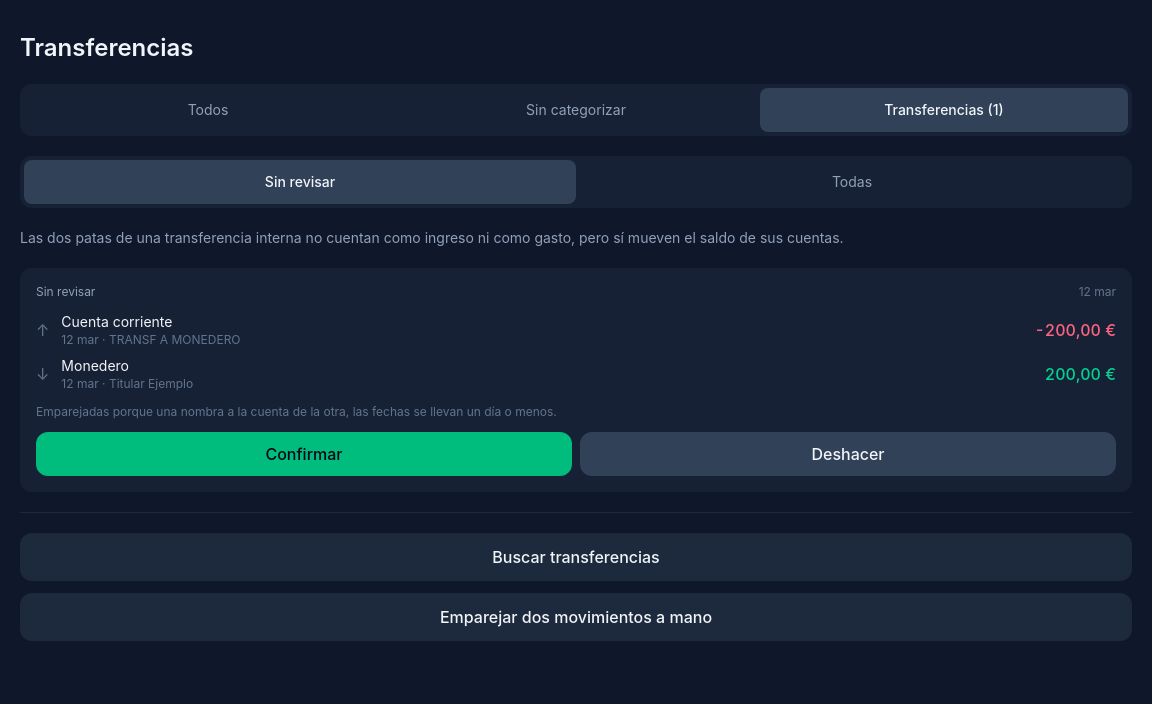
Test: TransfersScreen · confirmar y deshacer › avisa si la API rechaza la confirmación
Click the button "Confirmar": click(304, 454) [36, 432, 572, 476]
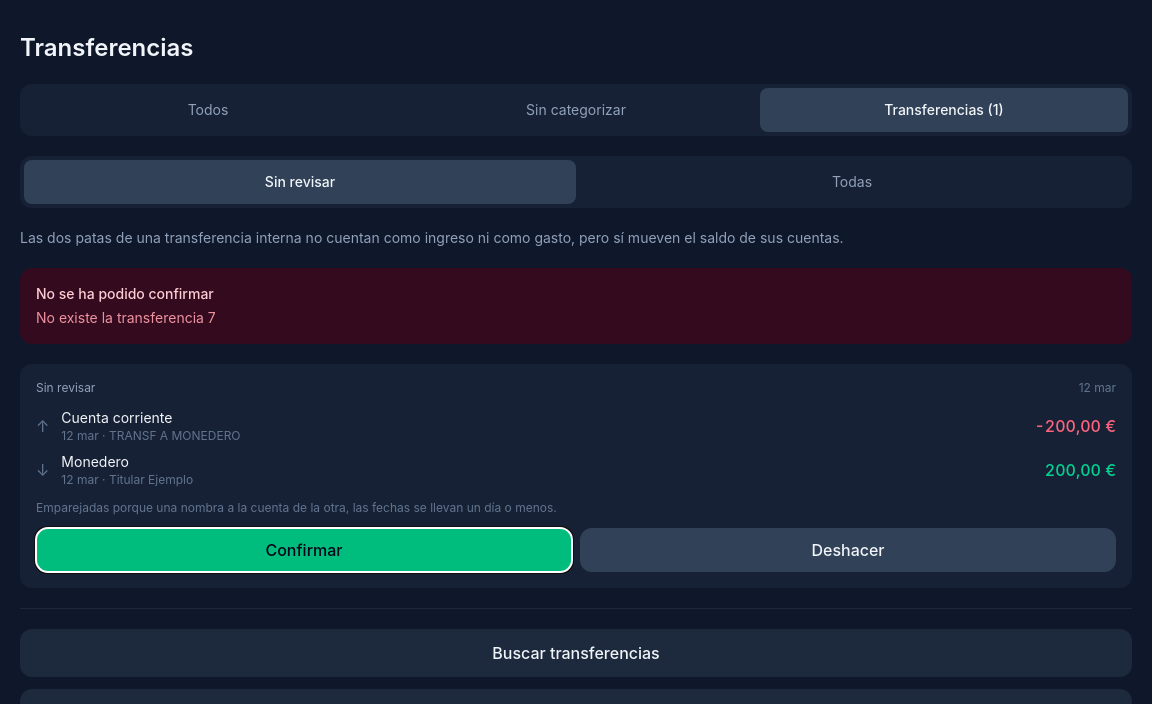
Check: the message shows "No se ha podido confirmar", box [36, 285, 214, 302]
